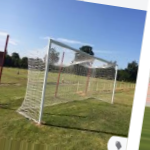goals: (15, 36, 119, 127)
